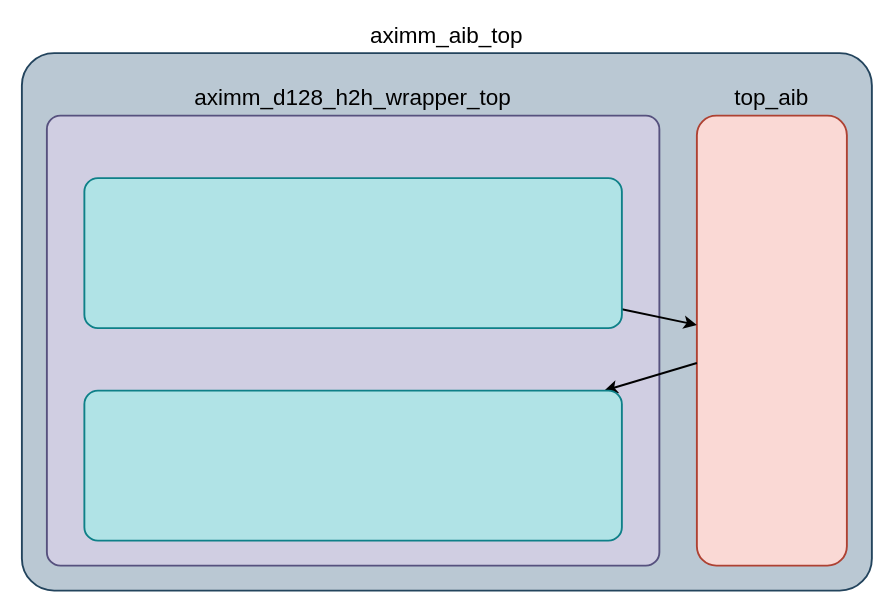
The diagram is 895 pixels wide and 613 high, and some of its shapes have lost their labels. The centre of each missing label's shape, as x and y in pixels:
axi_mm_master_top: [352,252]
axi_mm_slave_top: [352,465]
